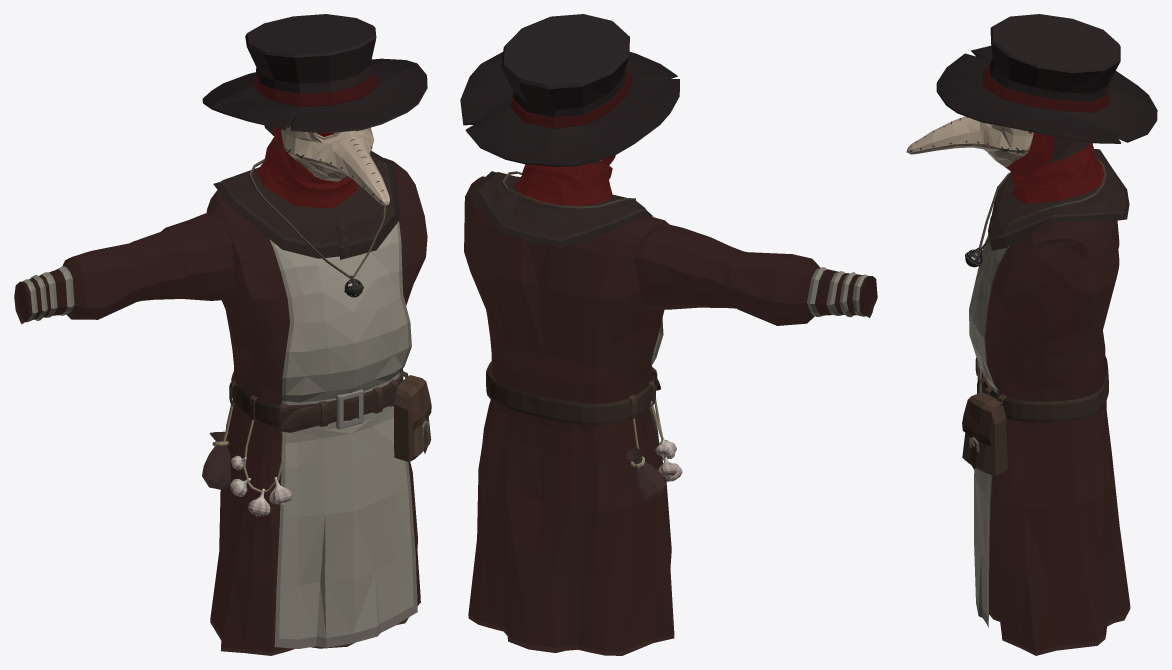
File: plagueDoctor.glb
3 views of the same model, side by side, from view 1: azimuth 30°, elevation 25°; view 2: azimuth 150°, elevation 25°; view 3: azimuth 270°, elevation 25° (orthographic). The views are drawn at different scales.
Parts seen in each view (by area): view 1: plagueDoctorBody, plagueDoctorHat, plagueDoctorUpperArm, plagueDoctorLowerArm; view 2: plagueDoctorBody, plagueDoctorHat, plagueDoctorLowerArm, plagueDoctorUpperArm; view 3: plagueDoctorBody, plagueDoctorHat.
Boxes of the visible parts, left/top/right/bottom form: plagueDoctorBody: left=202, top=150, right=431, bottom=655; plagueDoctorHat: left=202, top=14, right=427, bottom=208; plagueDoctorUpperArm: left=129, top=213, right=234, bottom=302; plagueDoctorLowerArm: left=14, top=243, right=140, bottom=324; plagueDoctorBody: left=464, top=171, right=682, bottom=655; plagueDoctorHat: left=460, top=14, right=679, bottom=211; plagueDoctorLowerArm: left=731, top=252, right=877, bottom=325; plagueDoctorUpperArm: left=635, top=224, right=748, bottom=309; plagueDoctorBody: left=962, top=149, right=1130, bottom=655; plagueDoctorHat: left=906, top=14, right=1157, bottom=203.
Bounding box in the file's own units: 1.14 × 1.62 × 0.6384.
